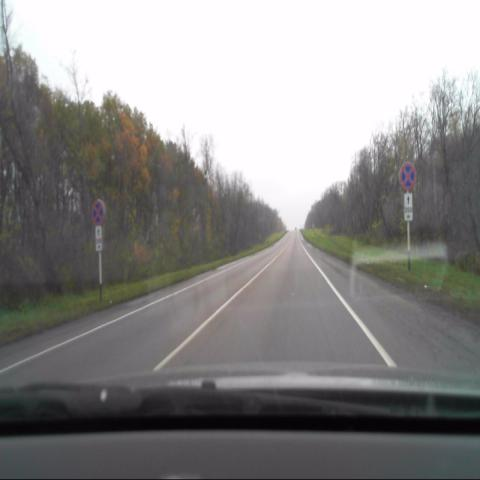8_2_2: (404, 193, 412, 222)
